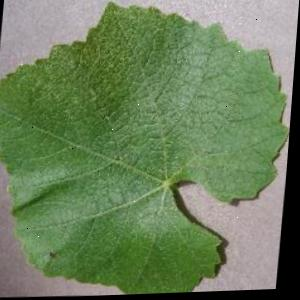Folha: (0, 0, 300, 300)
